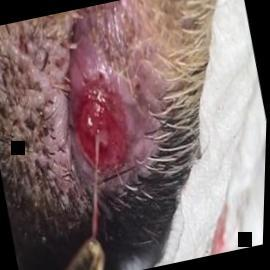skin_lesions: (58, 58, 148, 190)
